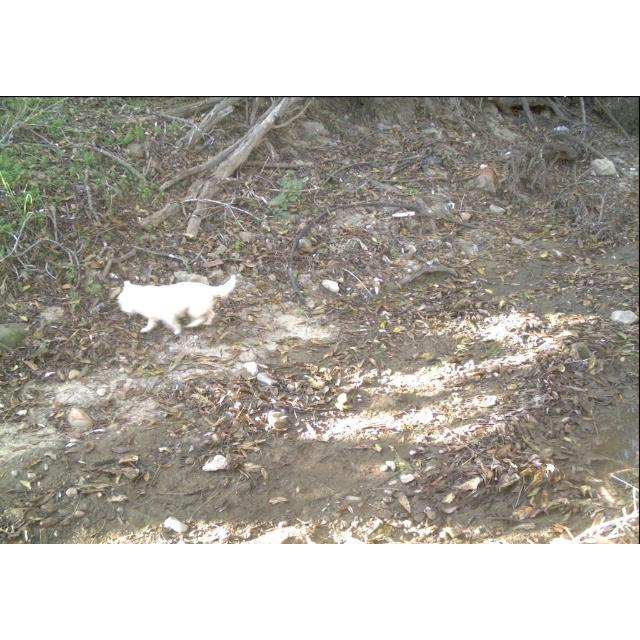animals: (116, 270, 240, 336)
